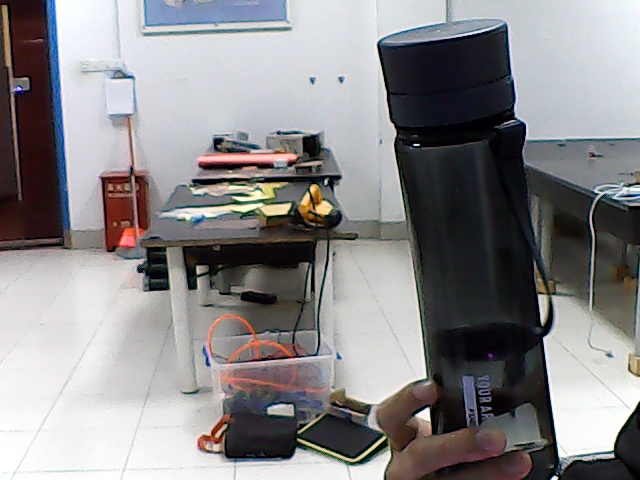cup: (407, 30, 523, 381)
